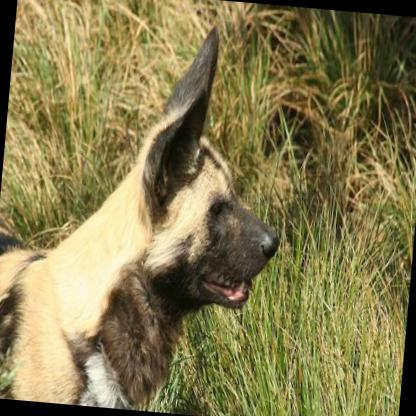African_hunting_dog: (0, 7, 300, 416)
